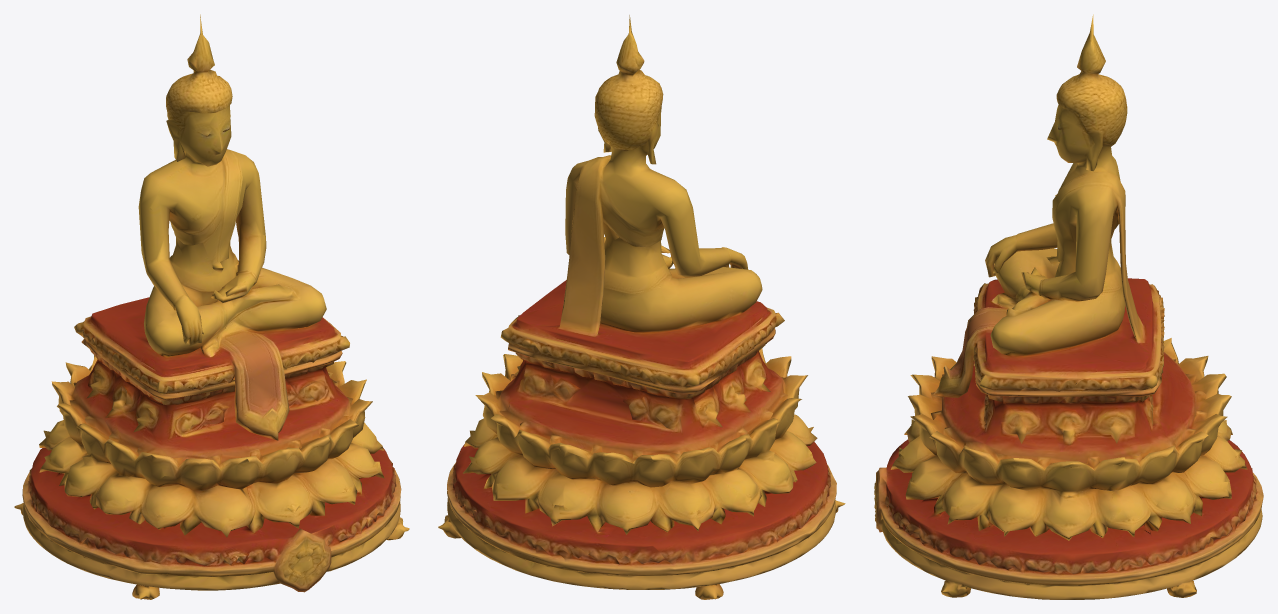
File: buddha.glb
The picture shows the model from 3 angles, left to right: view 1: azimuth 30°, elevation 25°; view 2: azimuth 150°, elevation 25°; view 3: azimuth 270°, elevation 25°; orthographic projection. The views are drawn at different scales.
Parts seen in each view (by area): view 1: tripo_node_762a67f0-32c7-48ba-ab0d-650152e9d891; view 2: tripo_node_762a67f0-32c7-48ba-ab0d-650152e9d891; view 3: tripo_node_762a67f0-32c7-48ba-ab0d-650152e9d891.
Boxes of the visible parts, <box> form: tripo_node_762a67f0-32c7-48ba-ab0d-650152e9d891: <box>14,14,409,599</box>; tripo_node_762a67f0-32c7-48ba-ab0d-650152e9d891: <box>438,15,845,599</box>; tripo_node_762a67f0-32c7-48ba-ab0d-650152e9d891: <box>874,14,1263,599</box>.
Size of the model in its own units: 0.69 by 1 by 0.6829.
1 material, 1 textured.
